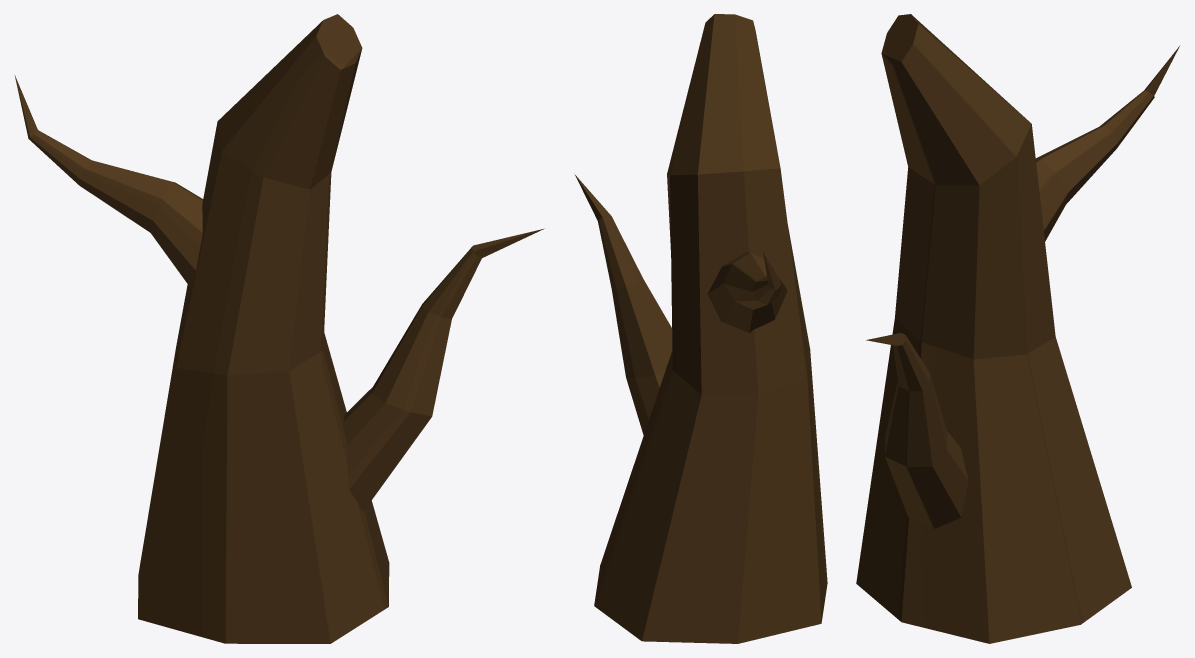
File: tree5.fbx
3 views of the same model, side by side, from view 1: azimuth 30°, elevation 25°; view 2: azimuth 150°, elevation 25°; view 3: azimuth 270°, elevation 25° (orthographic). The views are drawn at different scales.
Visible parts, largest first — view 1: Plane.004; view 2: Plane.004; view 3: Plane.004.
Part boxes in pixels (x1,y1,x2,y2): Plane.004: [14, 14, 544, 643]; Plane.004: [575, 14, 827, 643]; Plane.004: [856, 14, 1179, 643].
Size of the model in its own units: 365 by 562 by 285.
